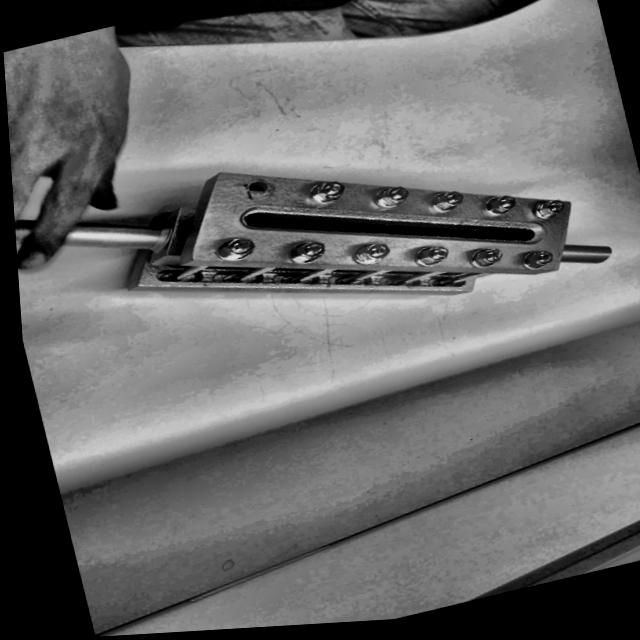ShuiWeiQi_11: (81, 60, 624, 416)
